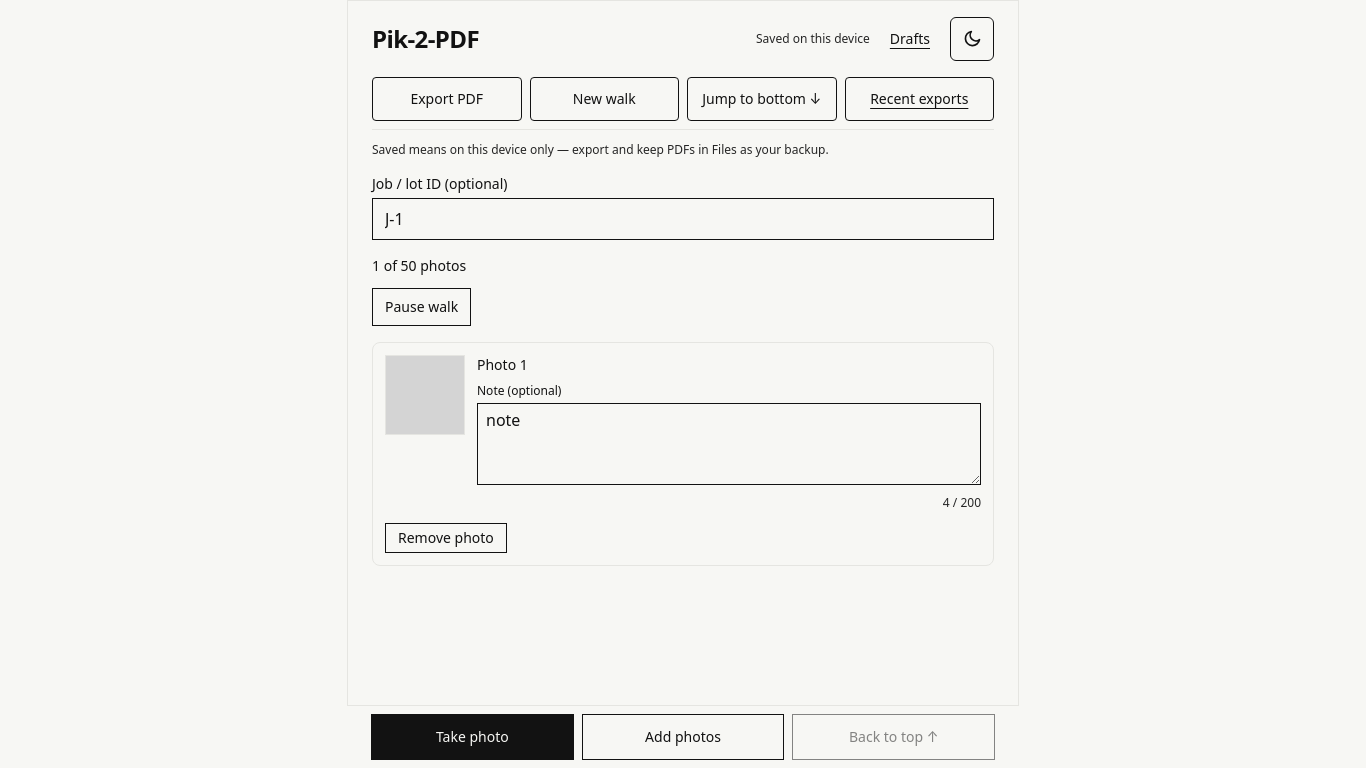
Test: clear walk confirmation › cancel preserves photos; confirm clears after success
This screenshot has width=1366, height=768.
Expected: the heading "Pik-2-PDF" is shown, 372,23 -> 479,55
Click the button "New walk" at (604, 99), box 530,77 -> 679,121
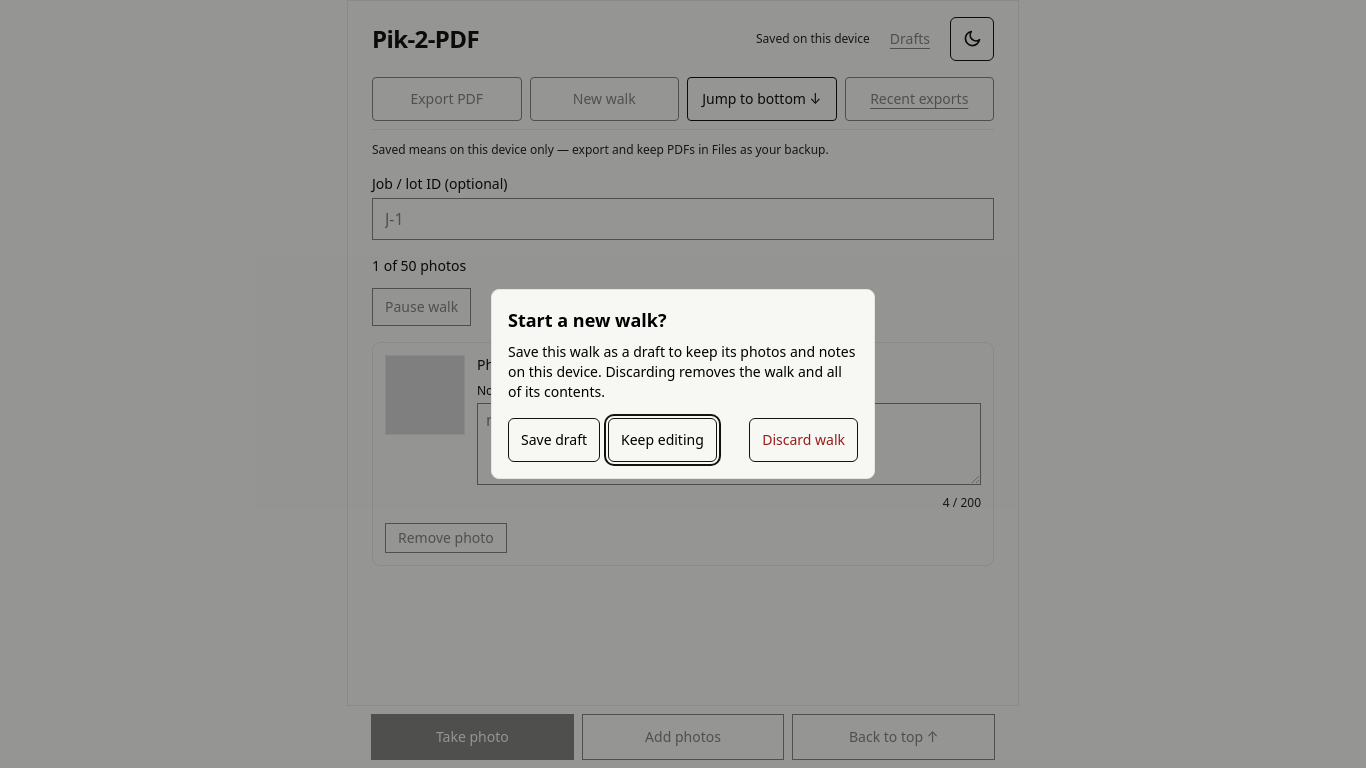
Click the button "Keep editing" at (662, 440), box 608,418 -> 717,462
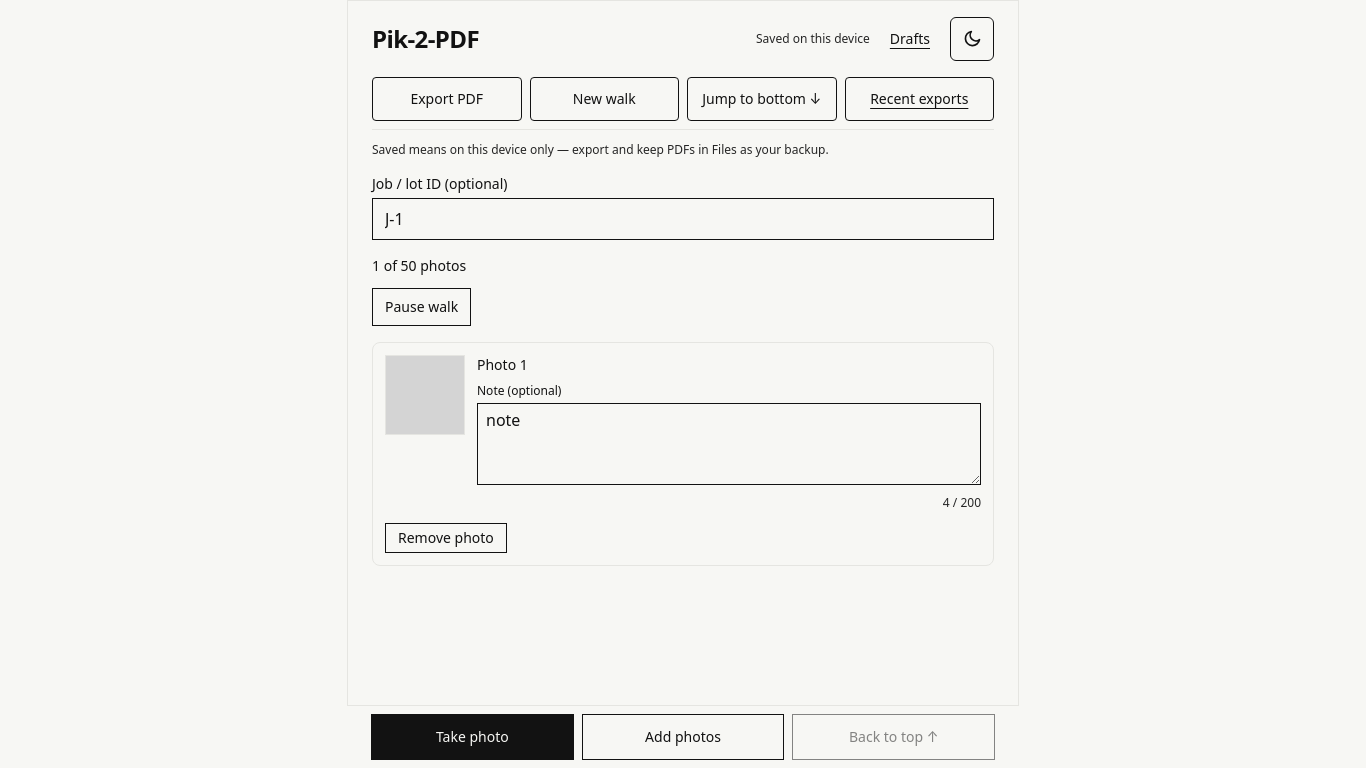
Expected: the text "Photo 1" is shown, 477,355 -> 528,374
Click the button "New walk" at (604, 99), box 530,77 -> 679,121
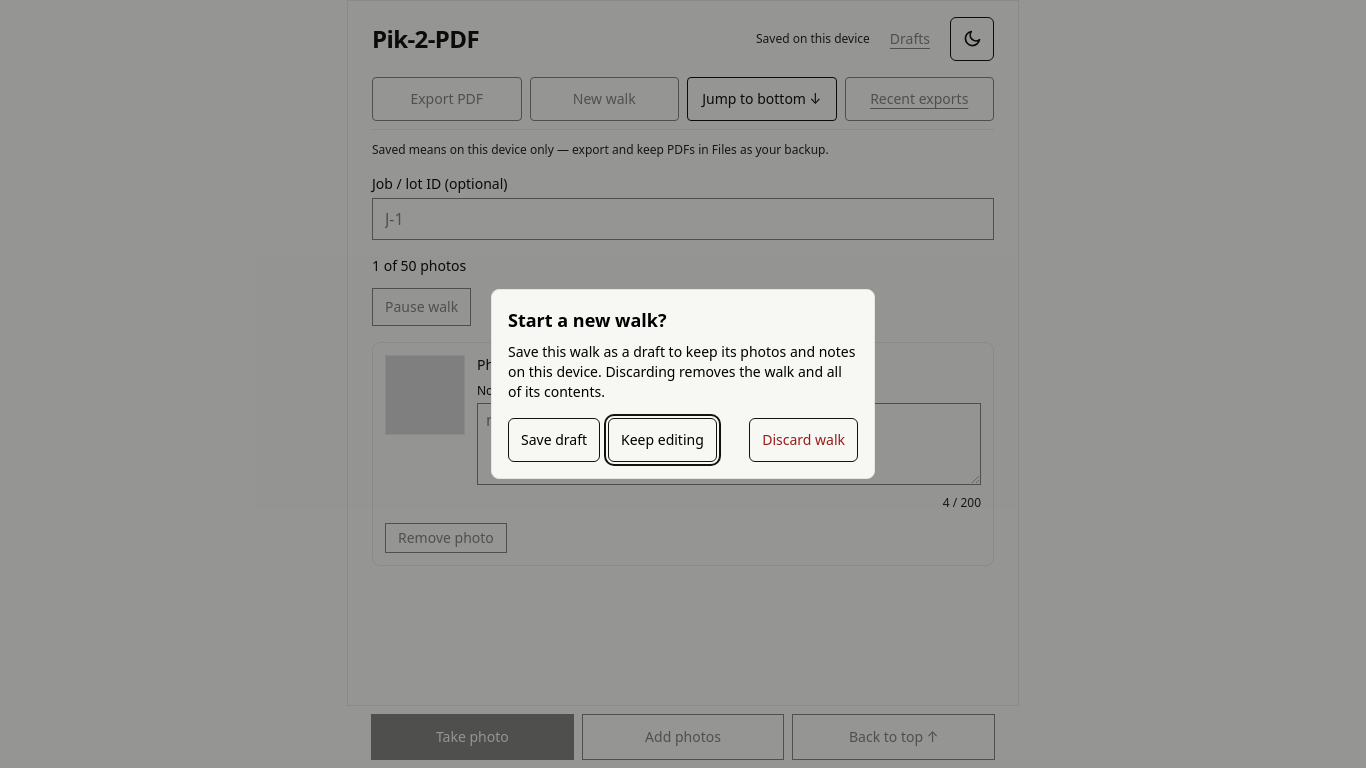
Click the button "Discard walk" at (804, 440), box 749,418 -> 858,462
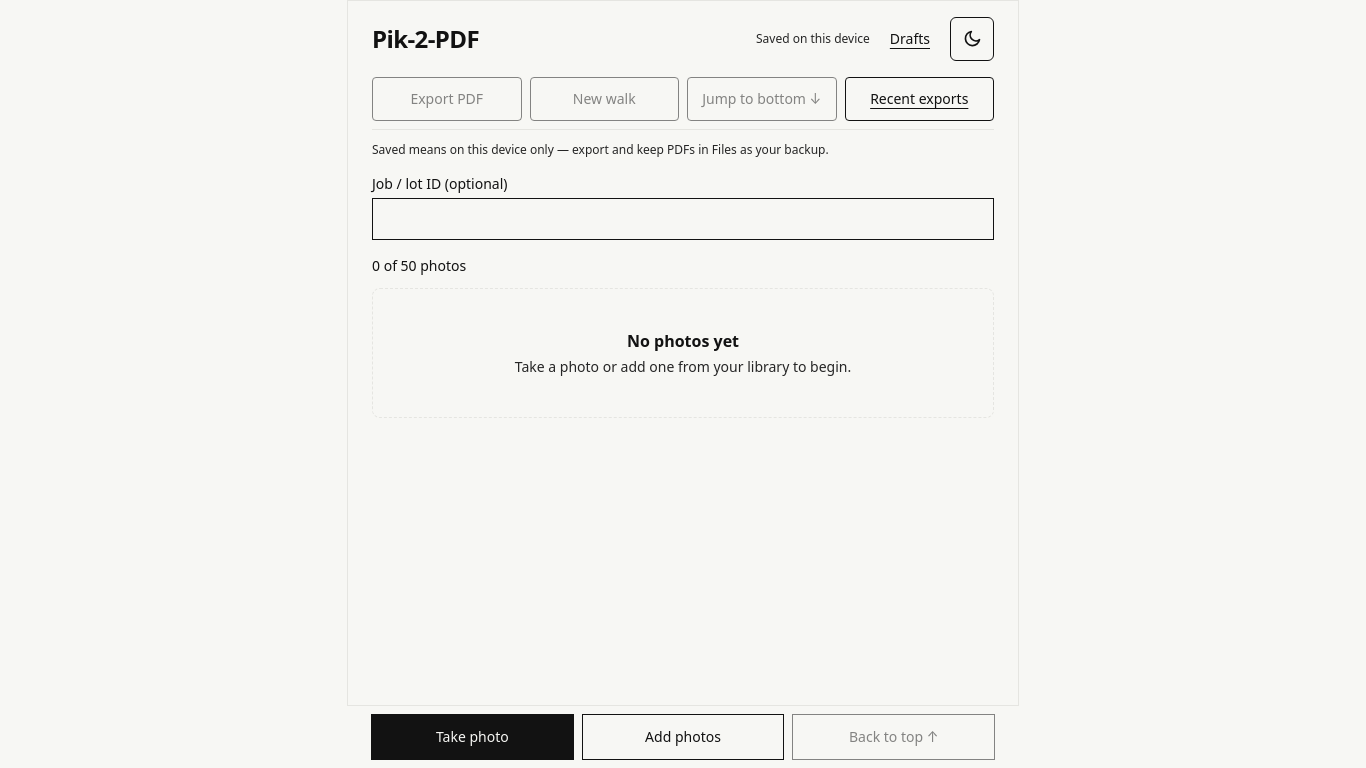
Now the text "No photos yet" is shown, box 627,330 -> 739,352
